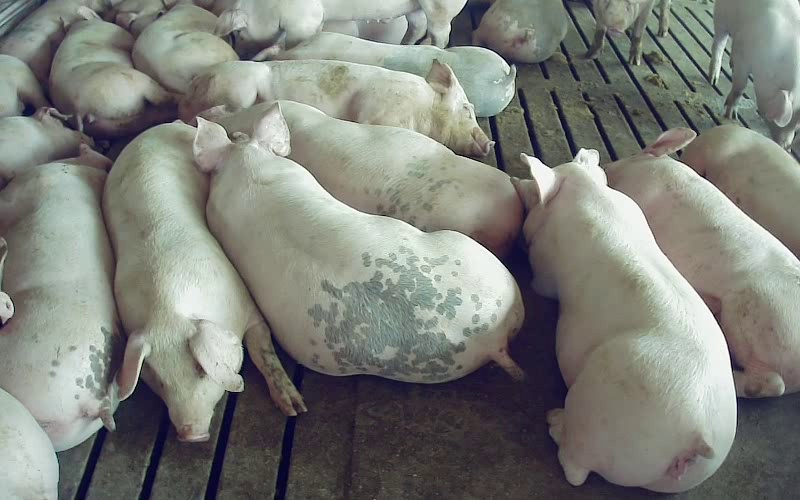pig: (193, 104, 523, 382), (512, 149, 735, 491), (605, 128, 799, 397), (0, 145, 123, 450), (281, 101, 523, 256), (179, 60, 491, 156), (254, 32, 514, 116), (49, 6, 176, 137), (681, 126, 799, 257), (215, 0, 466, 58), (709, 0, 799, 149), (132, 4, 238, 93), (0, 107, 93, 188)
